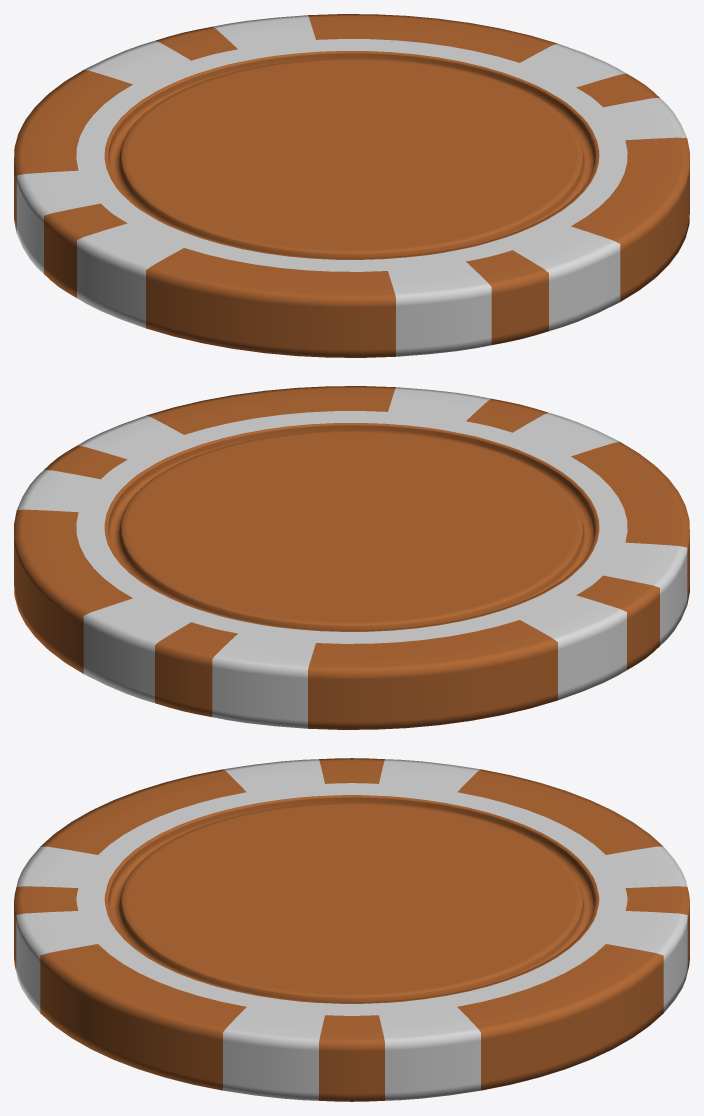
File: chip.fbx
3 views of the same model, one above another, from view 1: azimuth 30°, elevation 25°; view 2: azimuth 150°, elevation 25°; view 3: azimuth 270°, elevation 25° (orthographic).
Visible parts, largest first — view 1: Chip; view 2: Chip; view 3: Chip.
Part boxes in pixels (x1,y1,x2,y2): Chip: (14, 14, 689, 357); Chip: (14, 386, 689, 729); Chip: (14, 758, 689, 1101).
Size of the model in its own units: 134 by 13.3 by 134.
